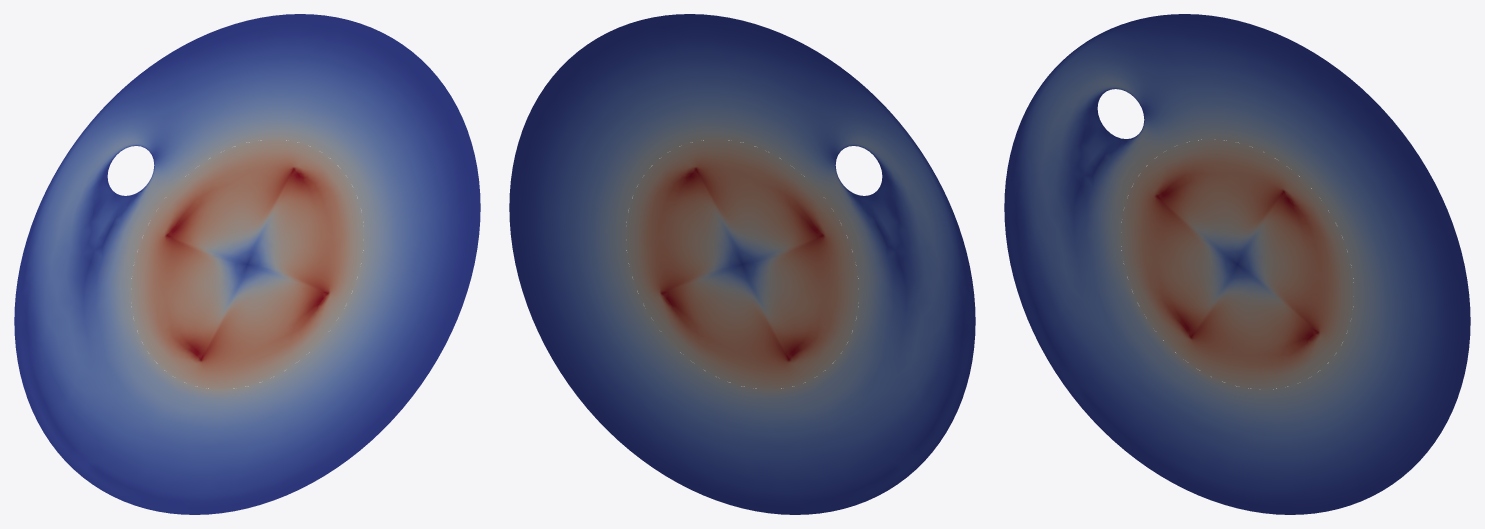
The model's file is Shape_IndexedFaceSet.005velo_contour.py_timestep3_time0.15_.fbx.
3 renders of one model, left to right at view 1: azimuth 30°, elevation 25°; view 2: azimuth 150°, elevation 25°; view 3: azimuth 330°, elevation 25°, orthographic.
Visible parts, largest first — view 1: Shape_IndexedFaceSet.005; view 2: Shape_IndexedFaceSet.005; view 3: Shape_IndexedFaceSet.005.
Boxes of the visible parts, x1,y1,x2,y2 form: Shape_IndexedFaceSet.005: [14, 14, 480, 514]; Shape_IndexedFaceSet.005: [509, 14, 975, 514]; Shape_IndexedFaceSet.005: [1004, 14, 1470, 514].
Size of the model in its own units: 20 by 20 by 4.44e-06.
